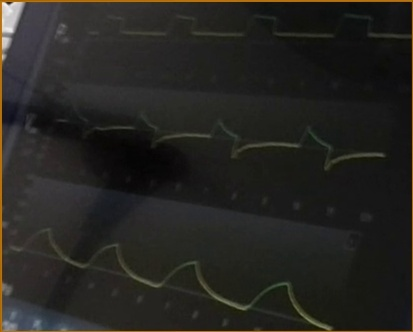Normal Flow: (58, 96, 386, 174)
Normal Volume: (11, 226, 333, 331)
